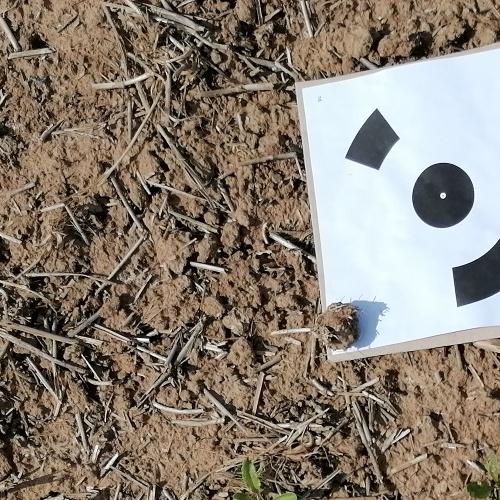beet: (229, 458, 299, 500)
